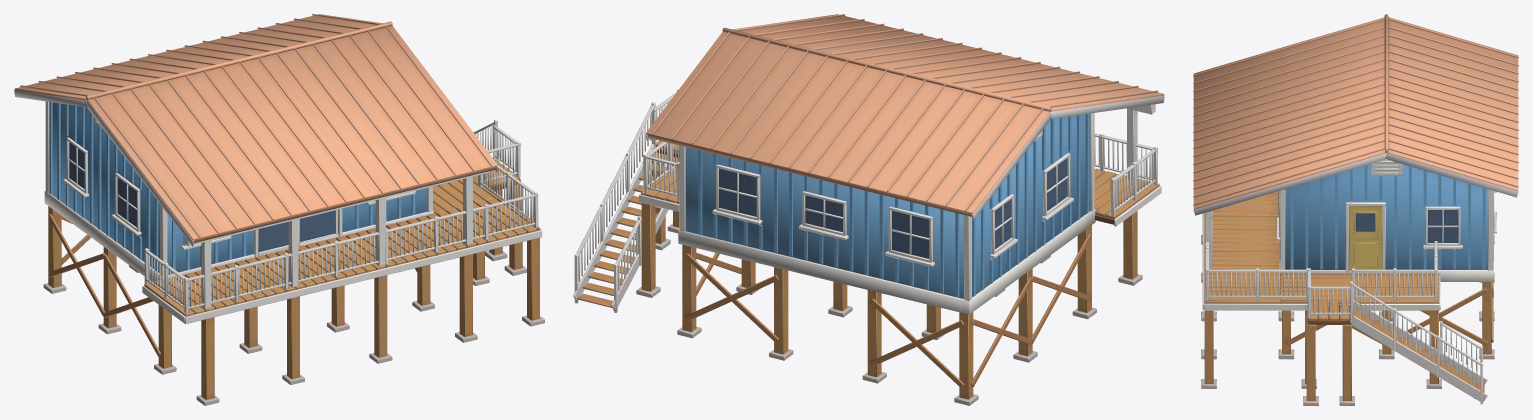
File: beach-house.glb
The picture shows the model from 3 angles, left to right: view 1: azimuth 30°, elevation 25°; view 2: azimuth 150°, elevation 25°; view 3: azimuth 270°, elevation 25°; orthographic projection. The views are drawn at different scales.
Parts seen in each view (by area): view 1: beach-house_body, beach-house_trim, beach-house_battens; view 2: beach-house_body, beach-house_trim, beach-house_battens; view 3: beach-house_body, beach-house_trim, beach-house_battens.
Boxes of the visible parts, x1=… form: beach-house_body: x1=14, y1=14, x2=544, y2=405; beach-house_trim: x1=45, y1=101, x2=538, y2=313; beach-house_battens: x1=49, y1=102, x2=415, y2=272; beach-house_body: x1=573, y1=14, x2=1164, y2=405; beach-house_trim: x1=574, y1=89, x2=1157, y2=312; beach-house_battens: x1=698, y1=113, x2=1089, y2=297; beach-house_body: x1=1193, y1=14, x2=1518, y2=405; beach-house_trim: x1=1205, y1=159, x2=1496, y2=404; beach-house_battens: x1=1279, y1=165, x2=1493, y2=269.
Size of the model in its own units: 11.85 by 6.82 by 9.26.
Materials: 3 (2 with a texture image).
